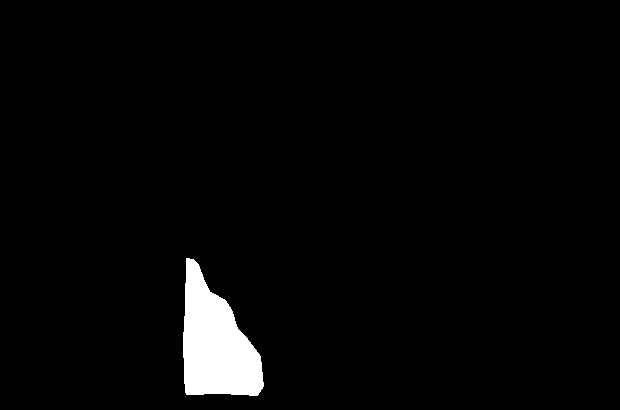type5: (178, 254, 265, 399)
